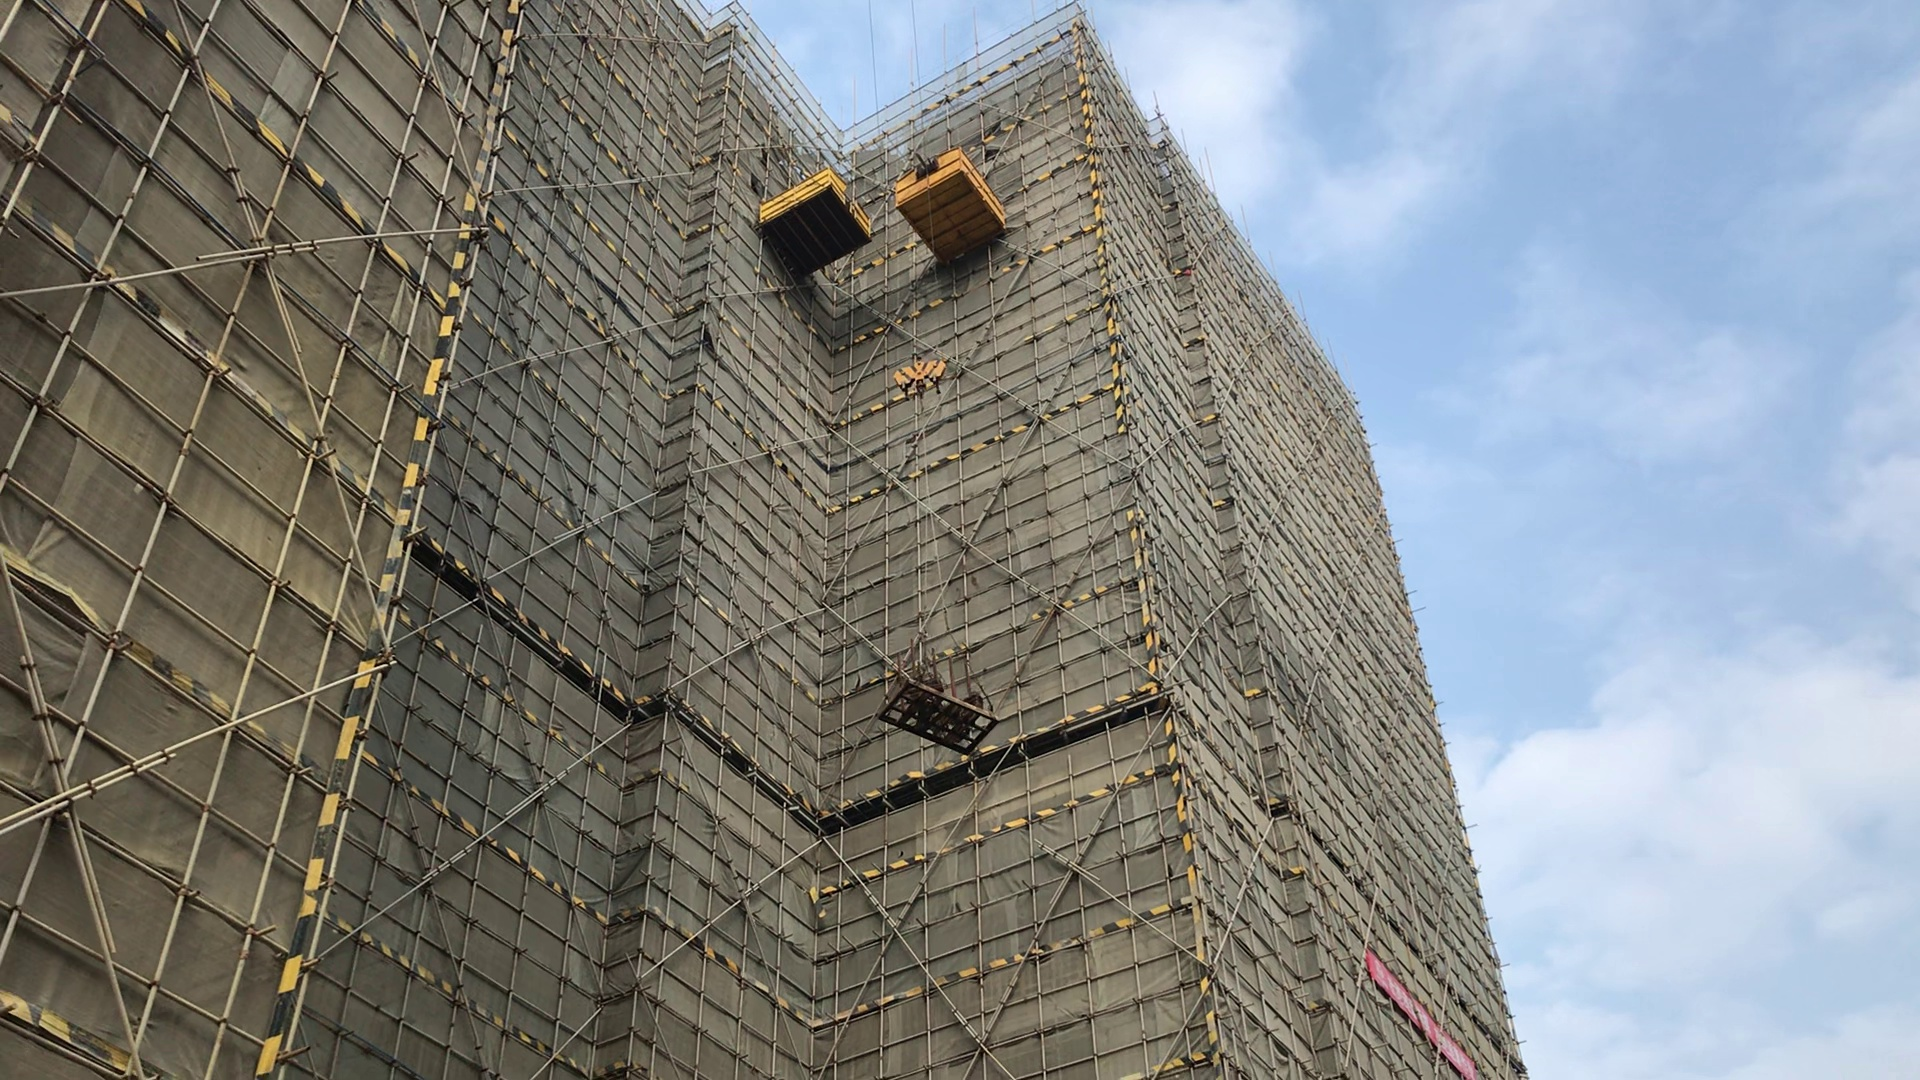hook: (891, 348, 959, 401)
